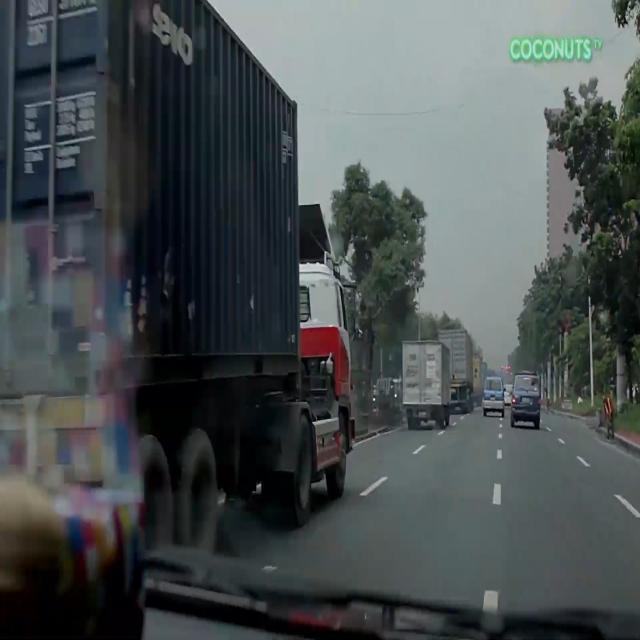truck: (0, 0, 353, 564), (399, 339, 453, 432), (438, 328, 478, 416)
